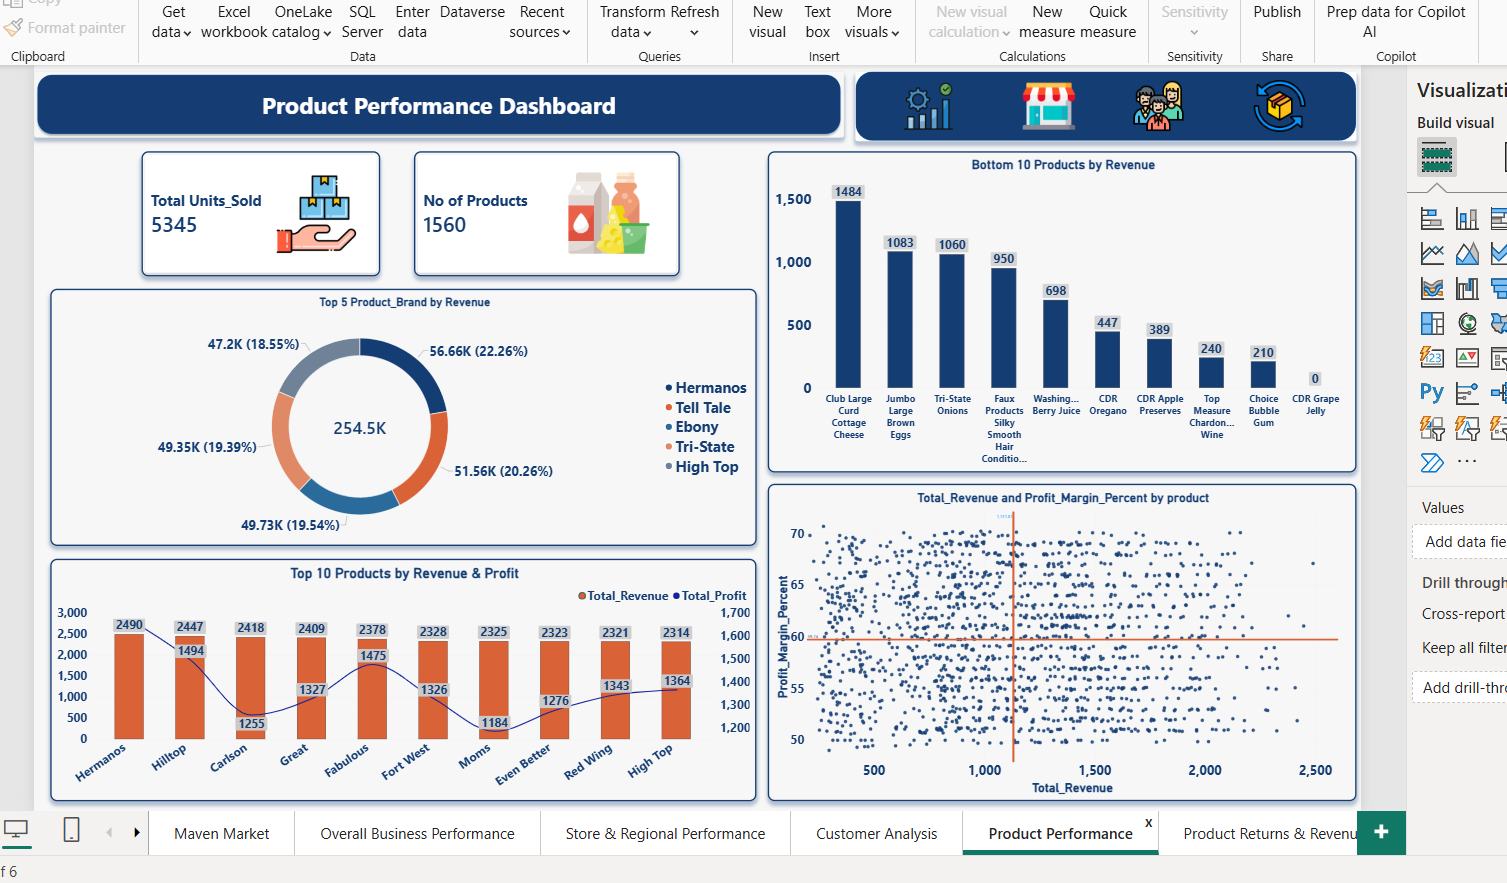

This screenshot's page, from the dashboard's own definition file:
{"tool":"powerbi","page":{"name":"Product Performance","canvas":[3840,2160],"ordinal":2},"visuals":[{"type":"shape","box":[0,18.1,2345.3,191.8],"z":0},{"type":"group","id":"g1","title":"Group 1","box":[2377.9,18.1,1451.3,202.7],"z":0,"group":"g2"},{"type":"image","box":[2443,43.4,293.2,152],"z":1000,"group":"g2"},{"type":"cardVisual","fields":{"Data":["Sum(Total Products.Total_Products)"]},"box":[1099.1,251.1,769.8,362.3],"z":1000,"group":"g4"},{"type":"lineStackedColumnComboChart","title":"Top 10 Products by Revenue & Profit","fields":{"Category":["B_Query1.product_brand"],"Y":["Sum(B_Query1.Total_Revenue)"],"Y2":["Sum(B_Query1.Total_Profit)"]},"box":[47.1,1429.6,2044.9,702.1],"z":1000},{"type":"cardVisual","fields":{"Data":["Sum(B_Query5.Units_Sold)"]},"box":[312.8,251.1,691.6,362.3],"z":2000,"group":"g3"},{"type":"scatterChart","title":"Total_Revenue and Profit_Margin_Percent by product","fields":{"Category":["Total Profit & Profit Margin.product_name"],"X":["Total Profit & Profit Margin.Total_Revenue"],"Y":["Sum(Total Profit & Profit Margin.Profit_Margin_Percent)"]},"box":[2124.6,1213.5,1704.4,919],"z":2000},{"type":"donutChart","title":"Top 5 Product_Brand by Revenue","fields":{"Category":["B_Query4.product_brand"],"Y":["Sum(B_Query4.Total_Revenue)"]},"box":[45.3,646.3,2046,745.1],"z":3000},{"type":"columnChart","title":"Bottom 10 Products by Revenue","fields":{"Category":["B_Query6.product_name"],"Y":["Sum(B_Query6.Total_Revenue)"]},"box":[2124.6,251.3,1704.4,930.7],"z":4000},{"type":"group","id":"g2","title":"Group 2","box":[2377.9,18.1,1451.3,202.7],"z":5000},{"type":"group","id":"g3","title":"Group 3","box":[115.8,251.1,1404.3,362.3],"z":6000},{"type":"group","id":"g4","title":"Group 4","box":[1099.1,251.1,769.8,362.3],"z":7000},{"type":"image","box":[115.8,311.2,1404.3,235.3],"z":8000,"group":"g3"},{"type":"image","box":[1520.1,311.2,289.5,235.3],"z":9000,"group":"g4"},{"type":"shape","box":[2377.9,18.1,1451.3,202.7],"z":19000,"group":"g1"},{"type":"image","box":[2827.1,43.1,224.4,152],"z":21000,"group":"g1"},{"type":"image","box":[3105.4,44.4,300.4,150.1],"z":22000,"group":"g1"},{"type":"image","box":[3489,44.4,235.3,150.1],"z":23000,"group":"g1"}]}

Visuals, with their boxes on the page's 3840x2160 design canvas (x1, y1, x2, y2). These are canvas units, not pixel positions in the 1507x883 screenshot, which may show the page scaled, cropped or inside an application window:
shape: 0, 18, 2345, 210
"Group 1" group: 2378, 18, 3829, 221
image: 2443, 43, 2736, 195
cardVisual - Sum(Total Products.Total_Products): 1099, 251, 1869, 613
"Top 10 Products by Revenue & Profit" lineStackedColumnComboChart: 47, 1430, 2092, 2132
cardVisual - Sum(B_Query5.Units_Sold): 313, 251, 1004, 613
"Total_Revenue and Profit_Margin_Percent by product" scatterChart: 2125, 1214, 3829, 2132
"Top 5 Product_Brand by Revenue" donutChart: 45, 646, 2091, 1391
"Bottom 10 Products by Revenue" columnChart: 2125, 251, 3829, 1182
"Group 2" group: 2378, 18, 3829, 221
"Group 3" group: 116, 251, 1520, 613
"Group 4" group: 1099, 251, 1869, 613
image: 116, 311, 1520, 546
image: 1520, 311, 1810, 546
shape: 2378, 18, 3829, 221
image: 2827, 43, 3052, 195
image: 3105, 44, 3406, 194
image: 3489, 44, 3724, 194
